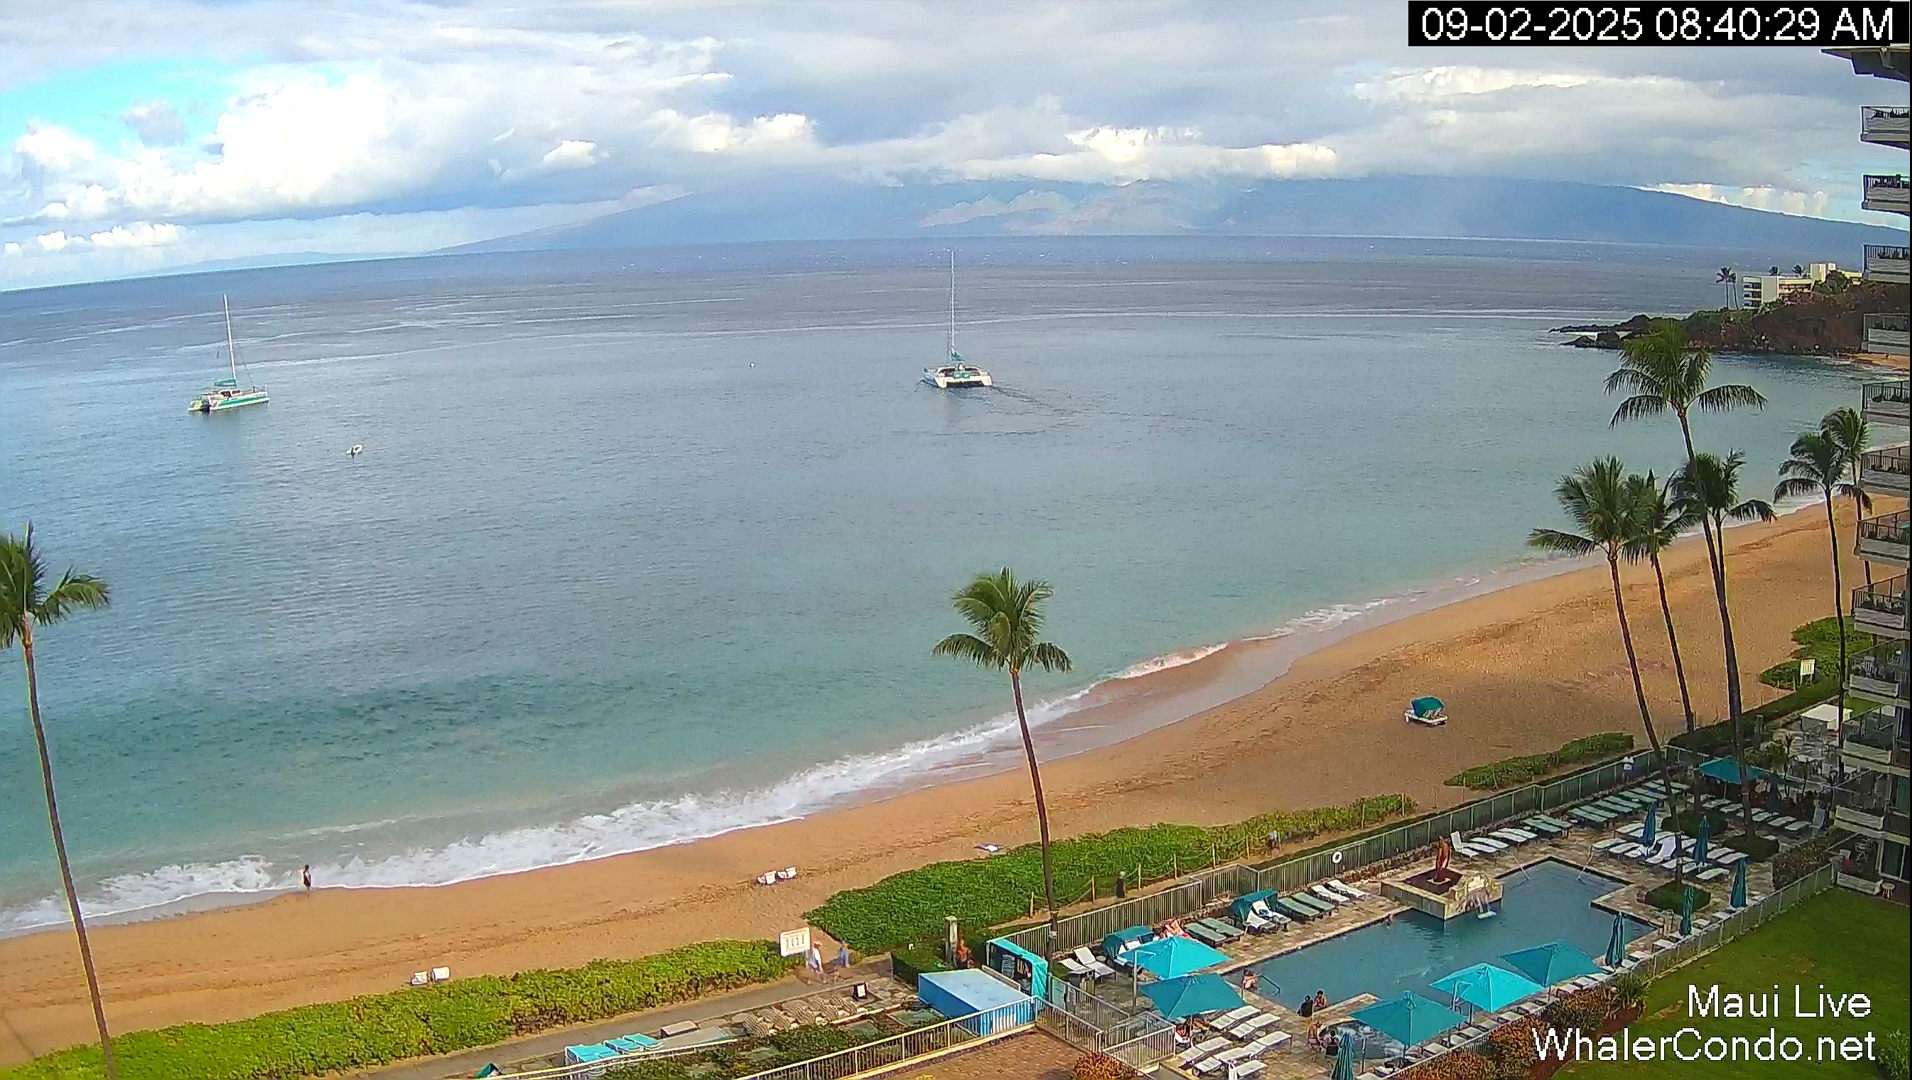boat: (922, 248, 994, 389), (188, 293, 270, 414), (473, 1032, 639, 1079), (188, 384, 270, 414), (922, 364, 993, 389), (1404, 696, 1448, 726)
person: (1174, 1024, 1190, 1051), (812, 942, 824, 974), (1312, 989, 1327, 1013), (1297, 995, 1313, 1017), (837, 942, 848, 968), (1116, 872, 1126, 899), (303, 864, 312, 891)
